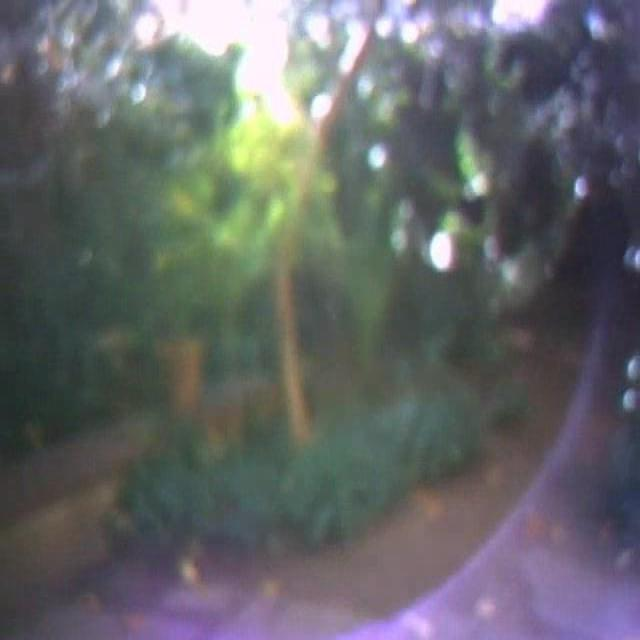other: (168, 13, 348, 244)
